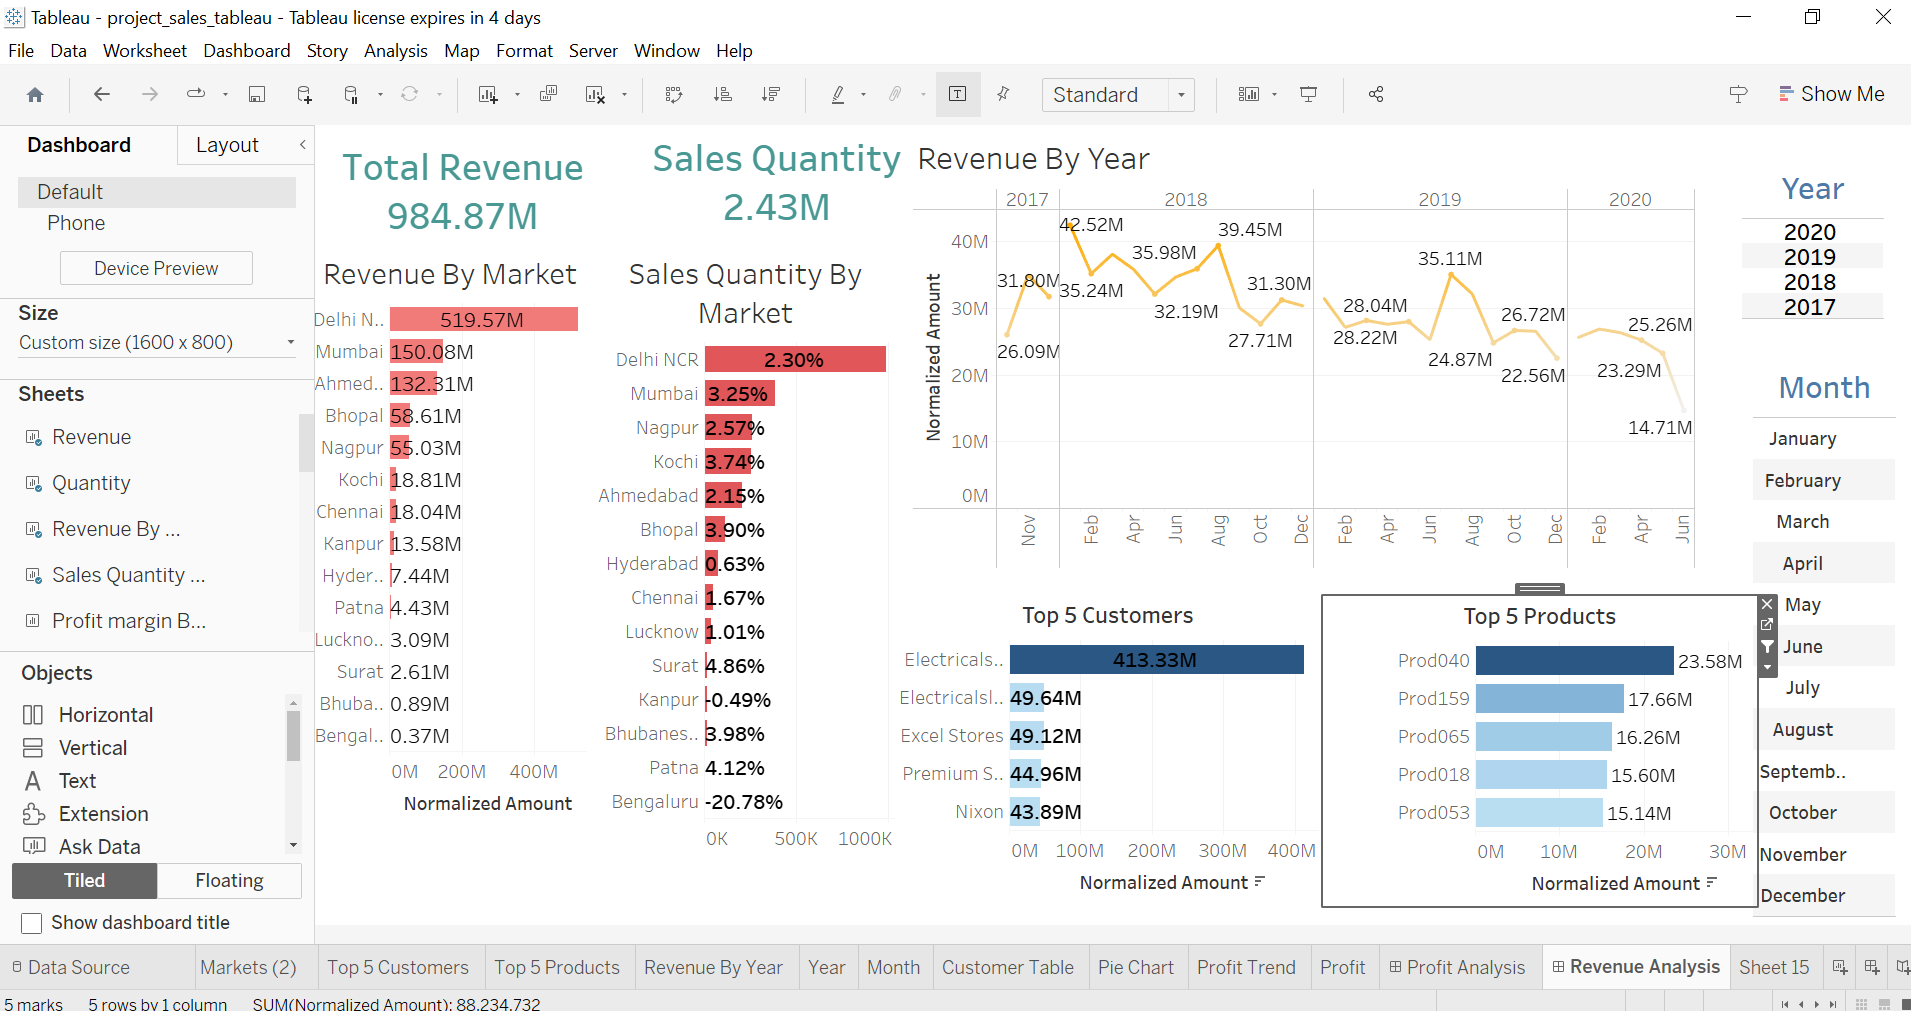

This screenshot's page, from the dashboard's own definition file:
{"tool":"tableau","page":{"name":"Revenue Analysis","canvas":[1600,800],"ordinal":1},"visuals":[{"type":"worksheet","title":"Quantity","mark":"Automatic","box":[332,7,322,115]},{"type":"worksheet","title":"Revenue By Year","mark":"Automatic","rows":["Calculation_345651339696406528"],"cols":["cy_date","cy_date"],"box":[598,7,782,437]},{"type":"worksheet","title":"Revenue","mark":"Automatic","box":[6,16,309,120]},{"type":"worksheet","title":"Year","mark":"Automatic","rows":["cy_date"],"box":[1427,37,174,203]},{"type":"worksheet","title":"Sales Quantity By Markets","mark":"Automatic","rows":["markets_name"],"cols":["sales_qty"],"box":[281,124,299,657]},{"type":"worksheet","title":"Month","mark":"Automatic","rows":["cy_date"],"box":[1438,236,143,556]},{"type":"worksheet","title":"Top 5 Customers","mark":"Automatic","rows":["custmer_name"],"cols":["Calculation_345651339696406528"],"box":[582,470,422,315]},{"type":"worksheet","title":"Top 5 Products","mark":"Automatic","rows":["product_code (products)"],"cols":["Calculation_345651339696406528"],"box":[1008,471,434,310]}]}

Visuals, with their boxes on the page's 1600x800 design canvas (x1, y1, x2, y2). These are canvas units, not pixel positions in the 1911x1011 screenshot, which may show the page scaled, cropped or inside an application window:
"Quantity" worksheet: bbox=[332, 7, 654, 122]
"Revenue By Year" worksheet: bbox=[598, 7, 1380, 444]
"Revenue" worksheet: bbox=[6, 16, 315, 136]
"Year" worksheet: bbox=[1427, 37, 1601, 240]
"Sales Quantity By Markets" worksheet: bbox=[281, 124, 580, 781]
"Month" worksheet: bbox=[1438, 236, 1581, 792]
"Top 5 Customers" worksheet: bbox=[582, 470, 1004, 785]
"Top 5 Products" worksheet: bbox=[1008, 471, 1442, 781]
